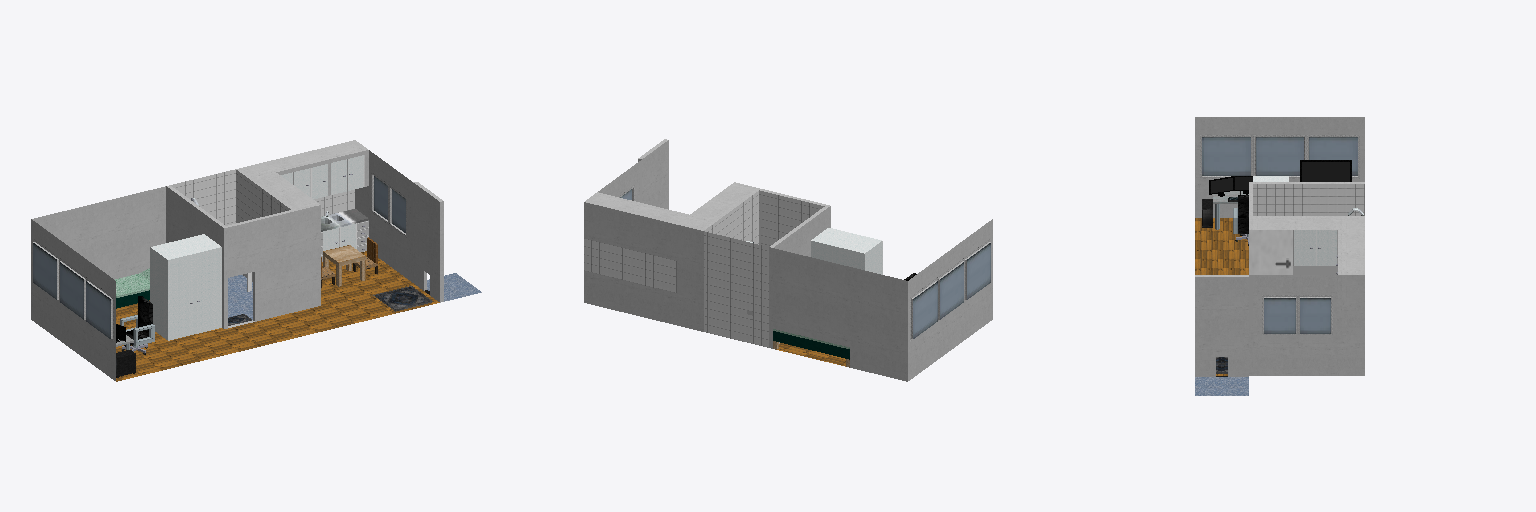
3 renders of one model, left to right at view 1: azimuth 30°, elevation 25°; view 2: azimuth 150°, elevation 25°; view 3: azimuth 270°, elevation 25°, orthographic.
Parts seen in each view (by area): view 1: object 1; view 2: object 1; view 3: object 1.
Part boxes in pixels (x1,y1,x2,y2): object 1: (31,140,481,381); object 1: (584,139,992,381); object 1: (1195,117,1364,395).
Size of the model in its own units: 9.55 by 2.5 by 3.8.
Materials: 40 (38 with a texture image).